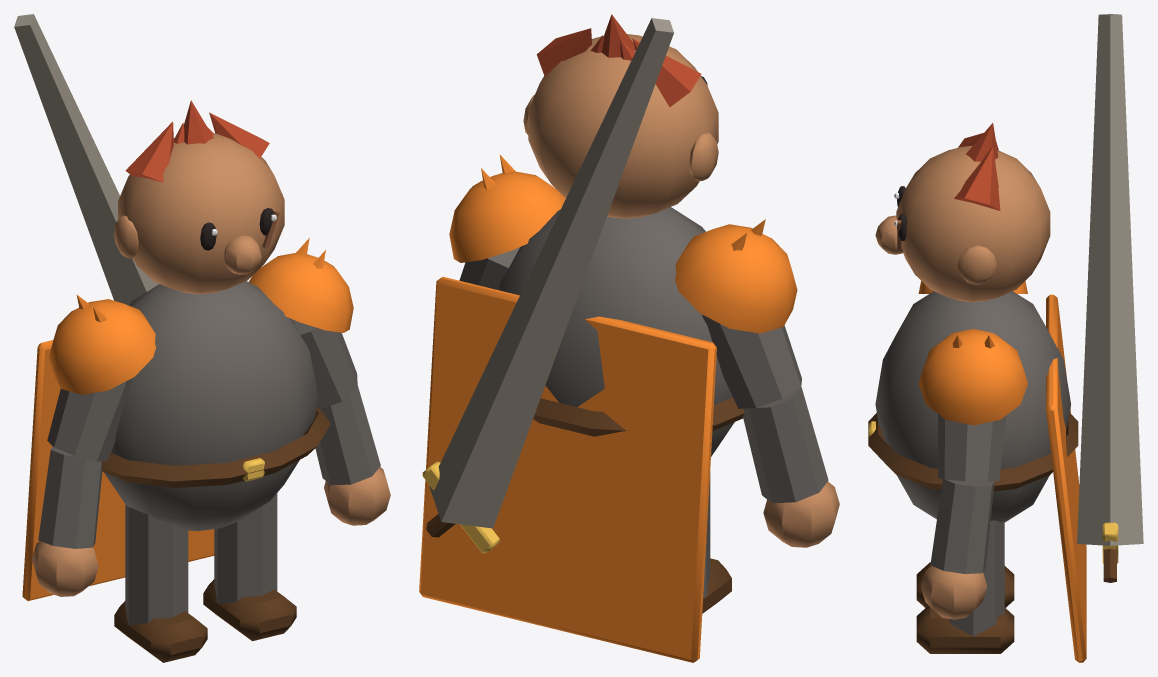
Rendered from CH_Cust_27_EjderhaAvcisi.fbx.
The picture shows the model from 3 angles, left to right: view 1: azimuth 30°, elevation 25°; view 2: azimuth 150°, elevation 25°; view 3: azimuth 270°, elevation 25°; orthographic projection. The views are drawn at different scales.
Parts seen in each view (by area): view 1: CH_Cust_27_EjderhaAvcisi; view 2: CH_Cust_27_EjderhaAvcisi; view 3: CH_Cust_27_EjderhaAvcisi.
Boxes of the visible parts, left/top/right/bottom form: CH_Cust_27_EjderhaAvcisi: left=14, top=14, right=390, bottom=662; CH_Cust_27_EjderhaAvcisi: left=419, top=14, right=839, bottom=662; CH_Cust_27_EjderhaAvcisi: left=868, top=14, right=1143, bottom=662.
Bounding box in the file's own units: 0.9968 × 1.59 × 0.7031.
